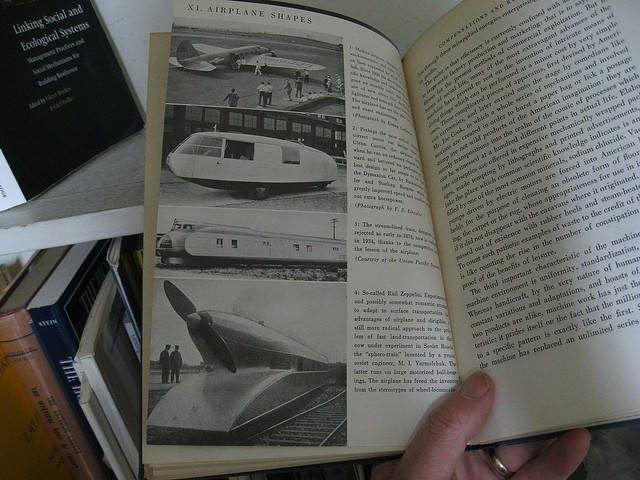airplane: (170, 42, 495, 113)
